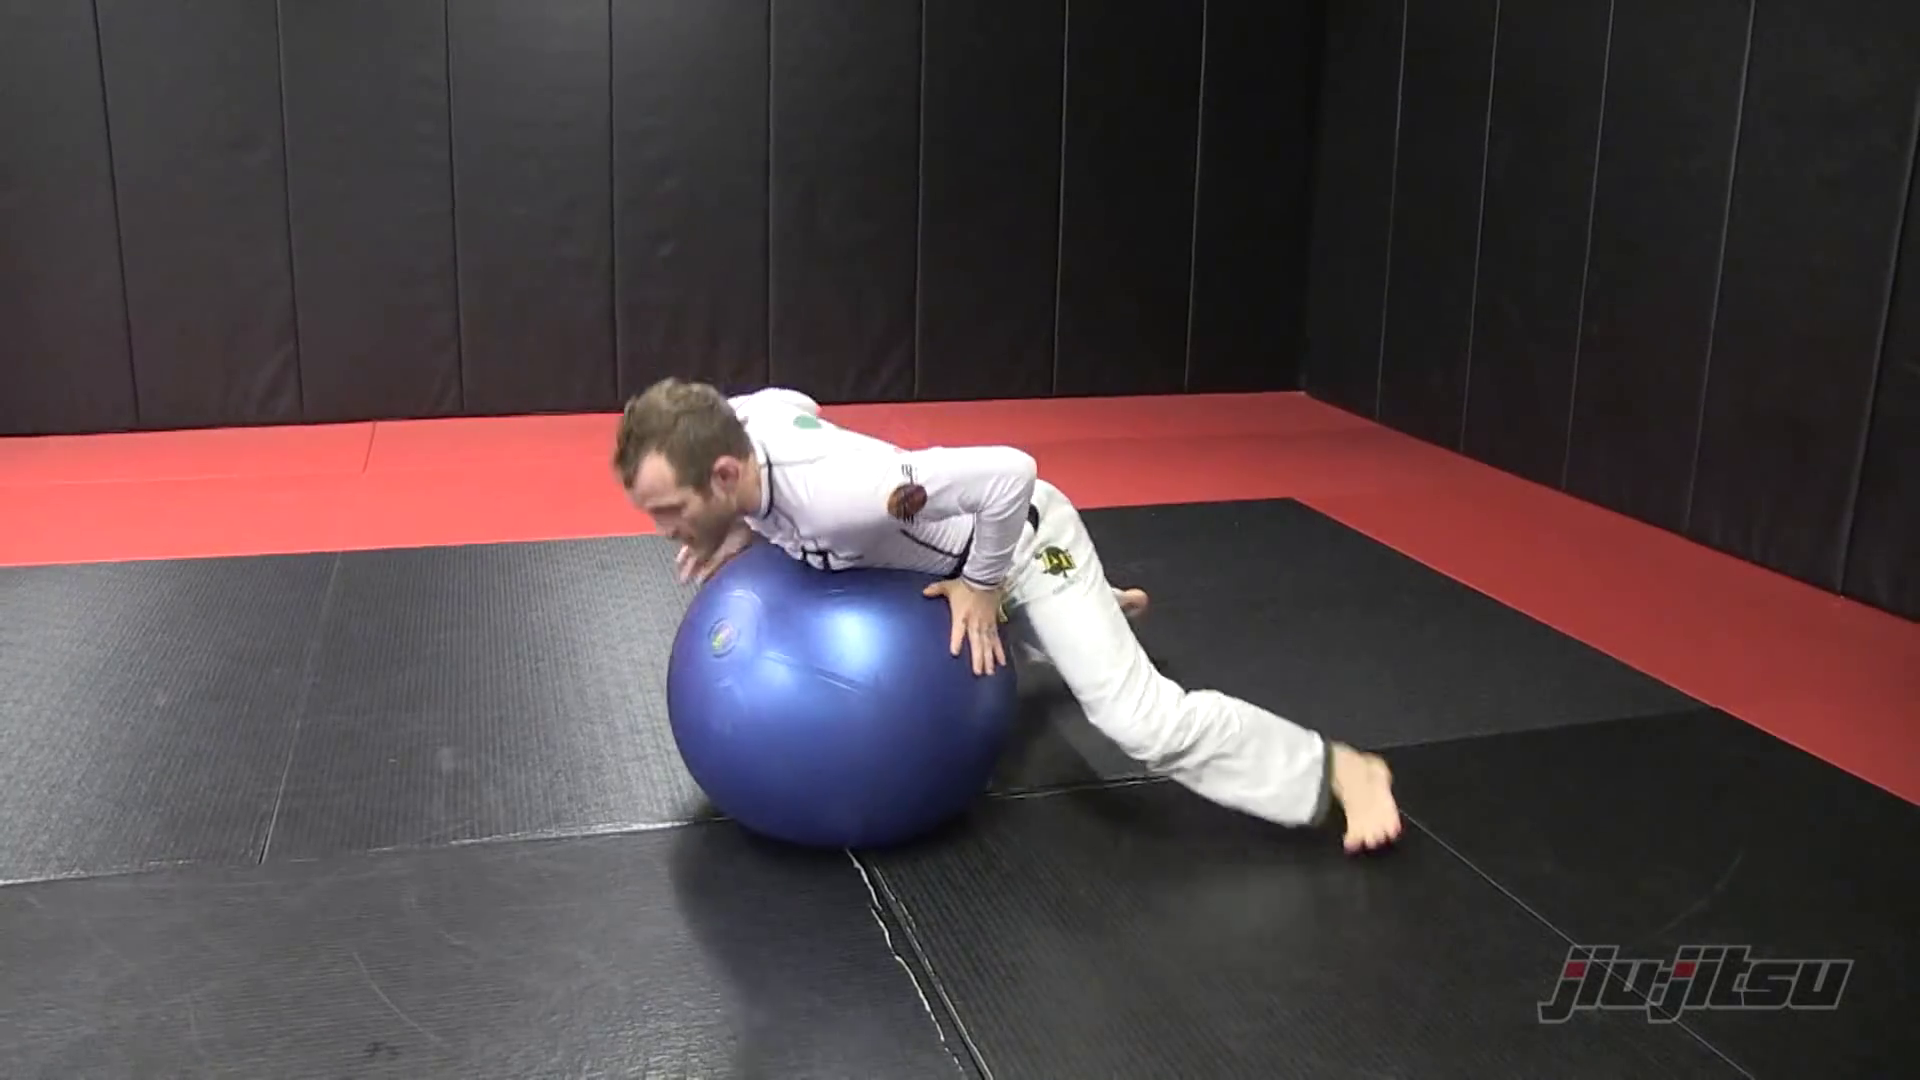yogaball: (657, 541, 1035, 857)
